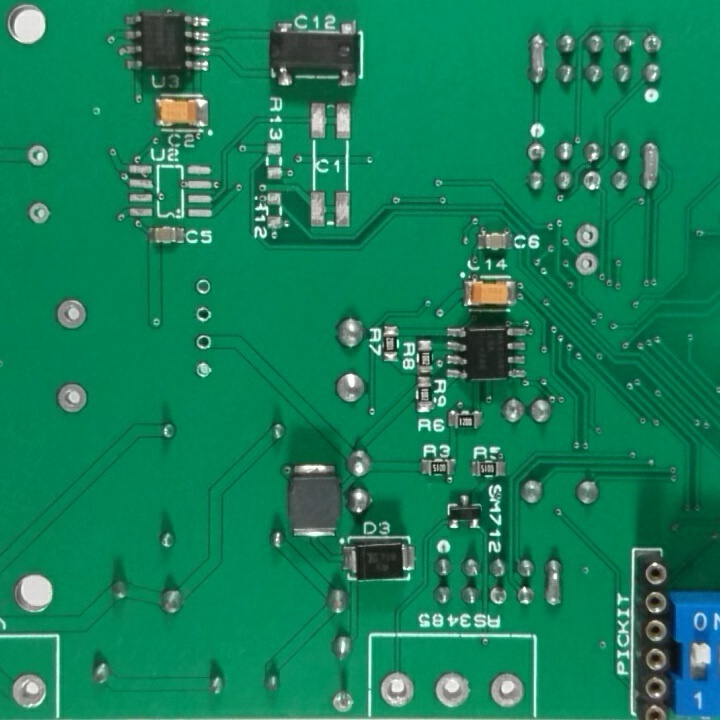F: (10, 666, 50, 715), (430, 668, 474, 712), (376, 667, 418, 711), (487, 668, 528, 711), (53, 296, 89, 335), (52, 380, 90, 415), (24, 140, 53, 172), (572, 221, 604, 249), (328, 685, 356, 716), (573, 251, 601, 280), (27, 198, 53, 227), (582, 167, 606, 197), (488, 583, 509, 609), (193, 300, 213, 327), (194, 327, 213, 354), (642, 34, 664, 57), (526, 141, 548, 164), (193, 359, 216, 380), (193, 276, 213, 297)
P: (525, 30, 549, 89), (639, 138, 662, 198), (542, 556, 564, 613)
